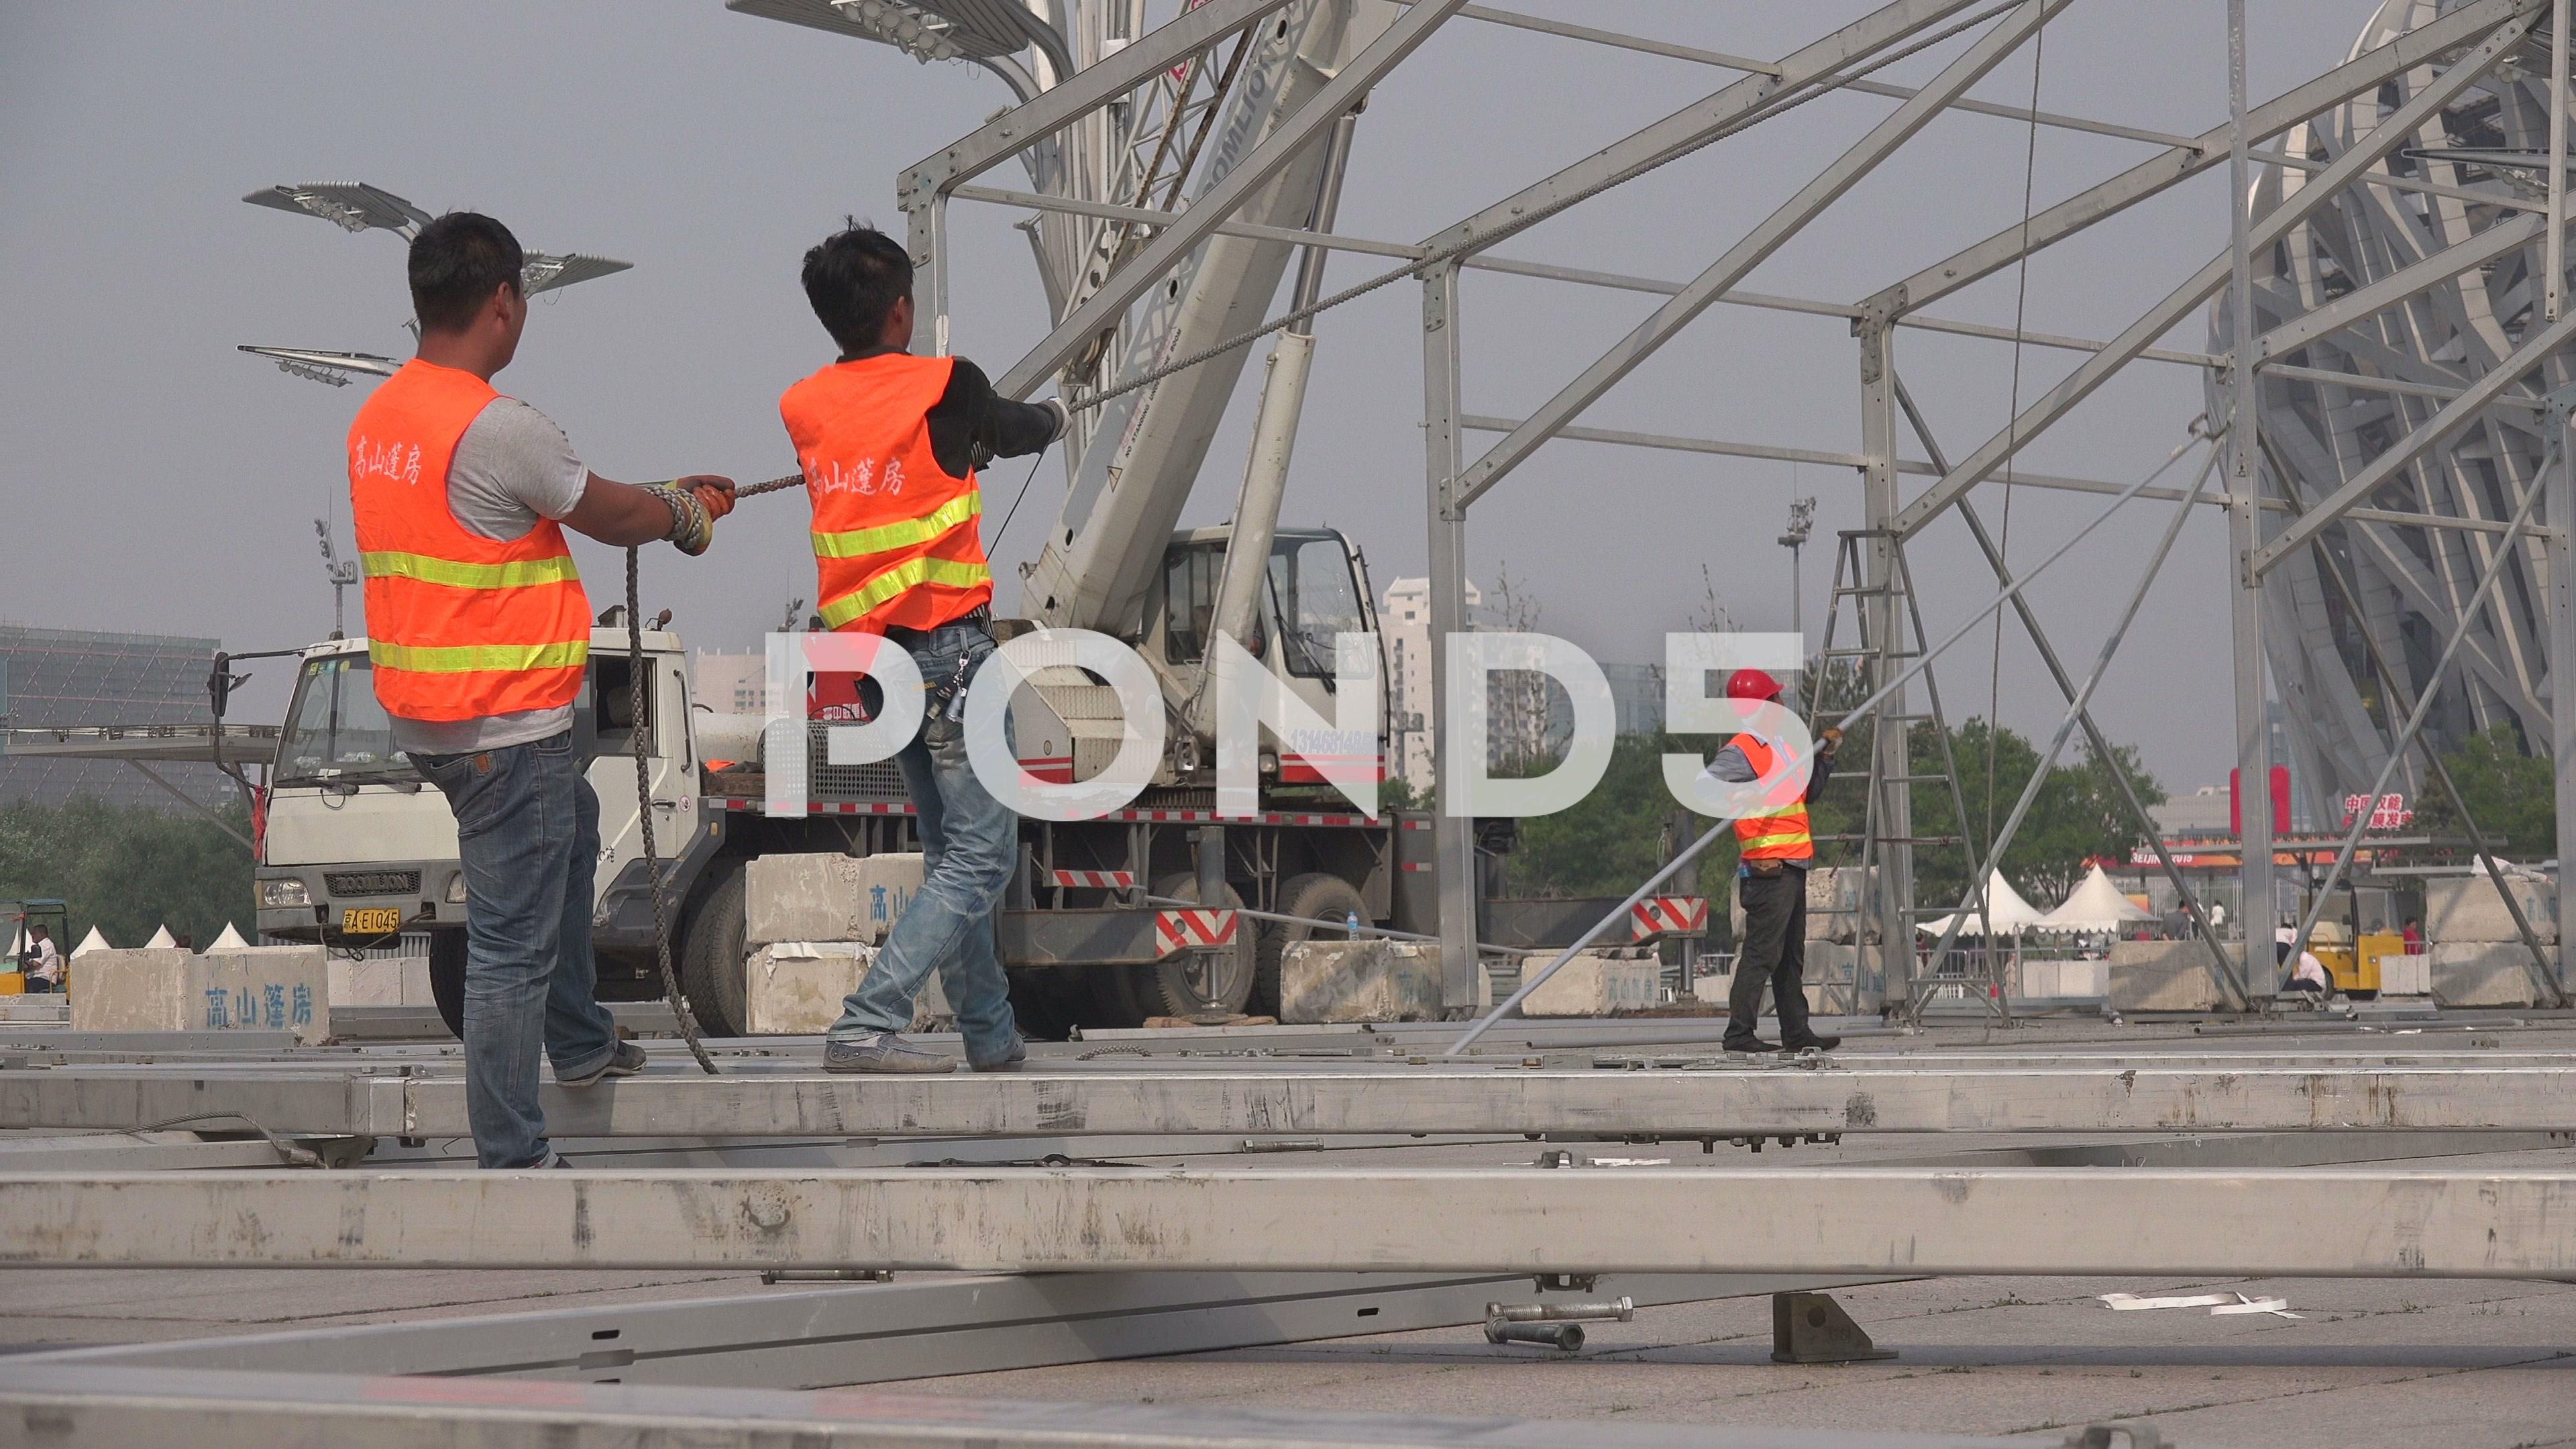hat: (1638, 625, 1898, 752)
no hat: (343, 182, 628, 414), (766, 195, 980, 407)
vest: (265, 317, 685, 805), (736, 343, 1077, 706), (1665, 732, 1868, 879)
